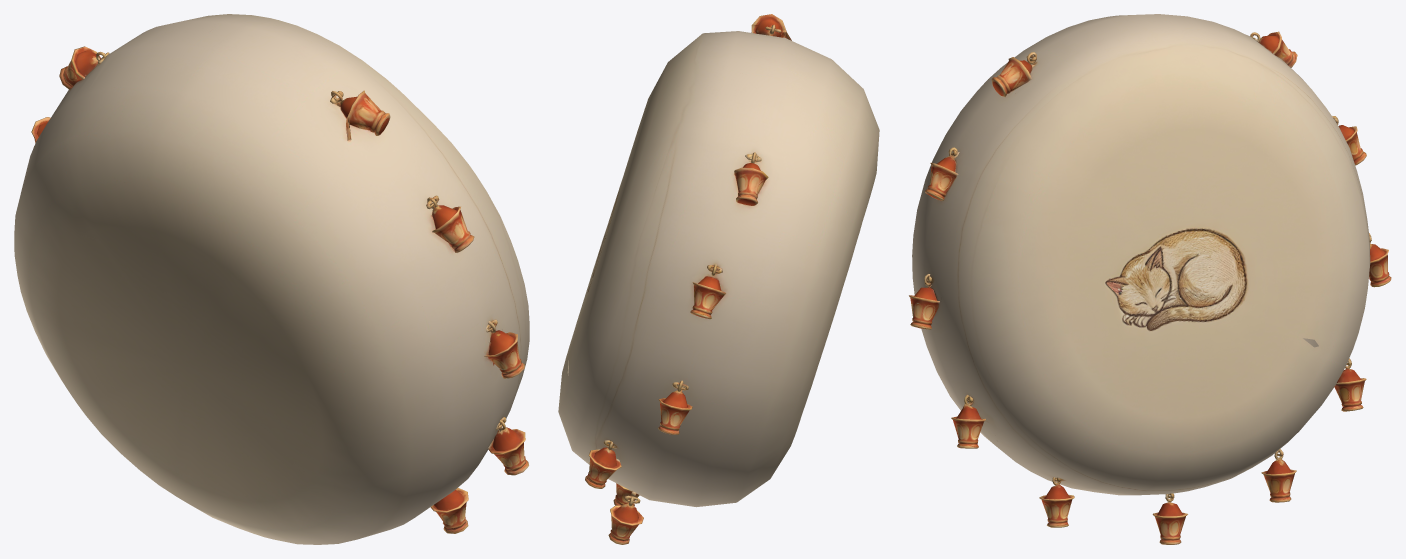
Rendered from sleepy-pillow.glb.
The picture shows the model from 3 angles, left to right: view 1: azimuth 30°, elevation 25°; view 2: azimuth 150°, elevation 25°; view 3: azimuth 270°, elevation 25°; orthographic projection. The views are drawn at different scales.
Parts seen in each view (by area): view 1: tripo_node_27cb69a9-94b5-4973-830a-abdcc3061417; view 2: tripo_node_27cb69a9-94b5-4973-830a-abdcc3061417; view 3: tripo_node_27cb69a9-94b5-4973-830a-abdcc3061417.
Boxes of the visible parts, x1,y1,x2,y2 form: tripo_node_27cb69a9-94b5-4973-830a-abdcc3061417: (14,14,529,544); tripo_node_27cb69a9-94b5-4973-830a-abdcc3061417: (558,14,879,544); tripo_node_27cb69a9-94b5-4973-830a-abdcc3061417: (909,14,1391,544).
Size of the model in its own units: 0.7067 by 0.9976 by 0.9282.
1 material, 1 textured.
